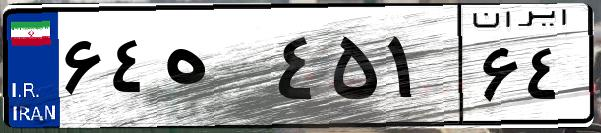1: (385, 28, 445, 110)
4: (270, 28, 330, 110), (525, 38, 570, 115), (110, 28, 158, 98)
5: (330, 28, 385, 110)
6: (57, 26, 110, 100), (475, 38, 525, 113)
ه: (158, 20, 270, 120)
